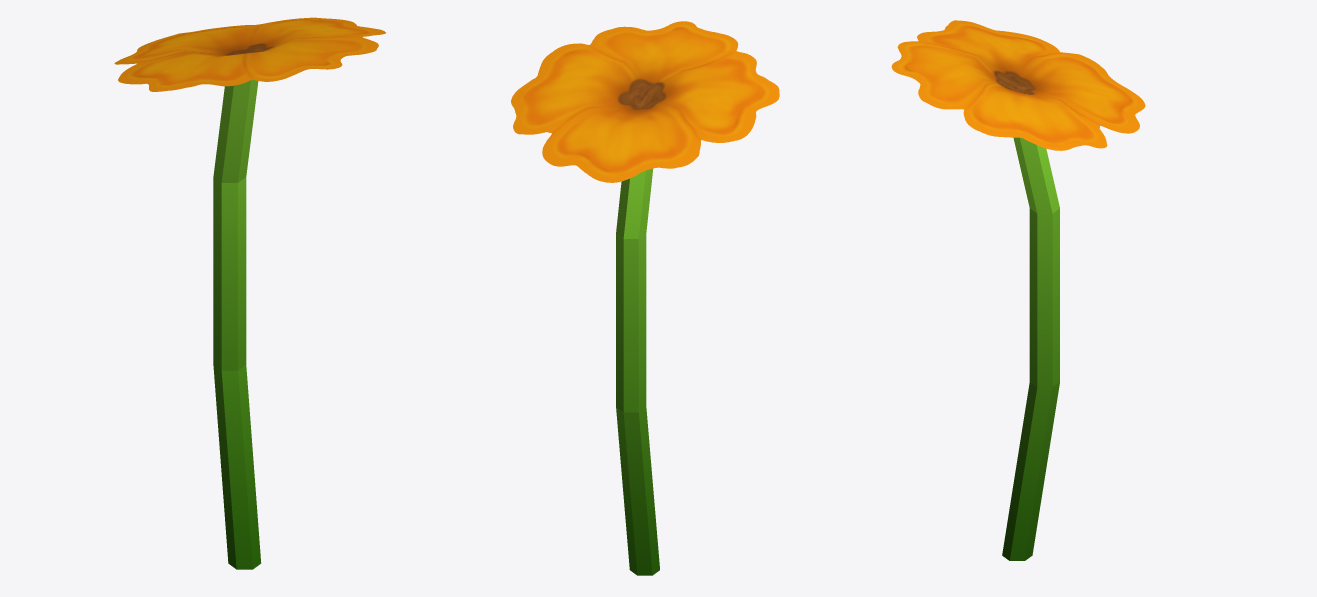
Rendered from Blumen_Test (2).fbx.
The picture shows the model from 3 angles, left to right: view 1: azimuth 30°, elevation 25°; view 2: azimuth 150°, elevation 25°; view 3: azimuth 270°, elevation 25°; orthographic projection. The views are drawn at different scales.
Visible parts, largest first — view 1: Blume; view 2: Blume; view 3: Blume.
Part boxes in pixels (<box>): Blume: <box>114,17,385,569</box>; Blume: <box>511,21,779,575</box>; Blume: <box>891,20,1145,560</box>.
Bounding box in the file's own units: 35.87 × 56.1 × 44.66.
1 material, 1 textured.
